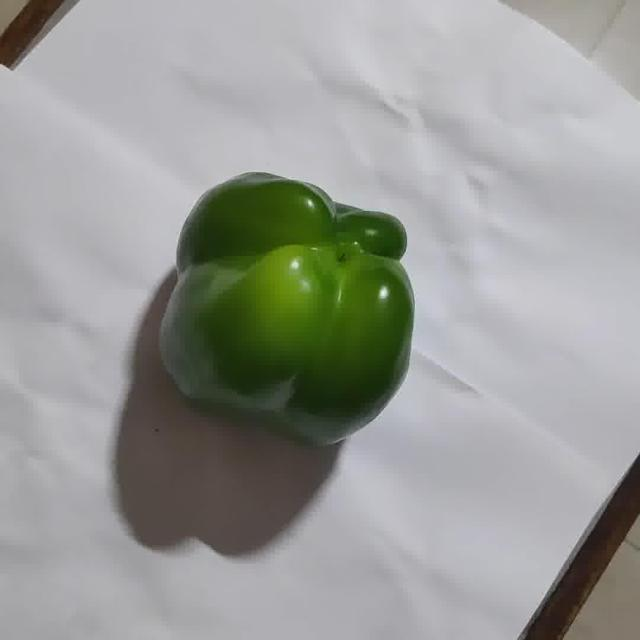Bell Pepper: (160, 172, 414, 446)
